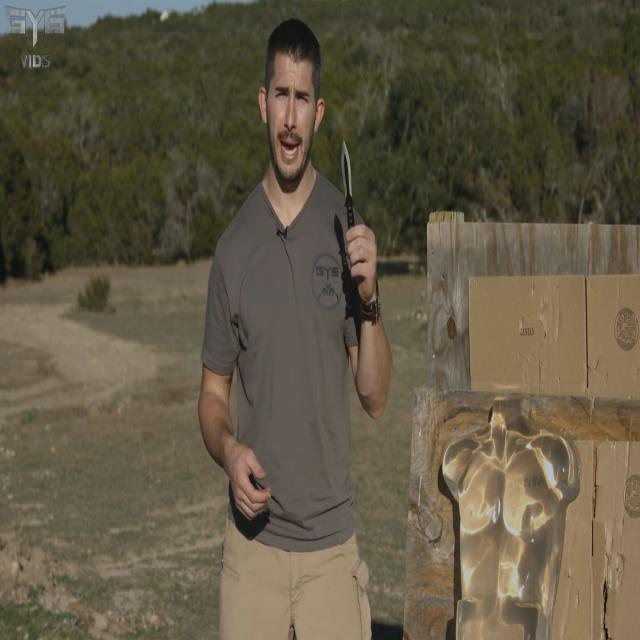knife: (341, 138, 359, 226)
